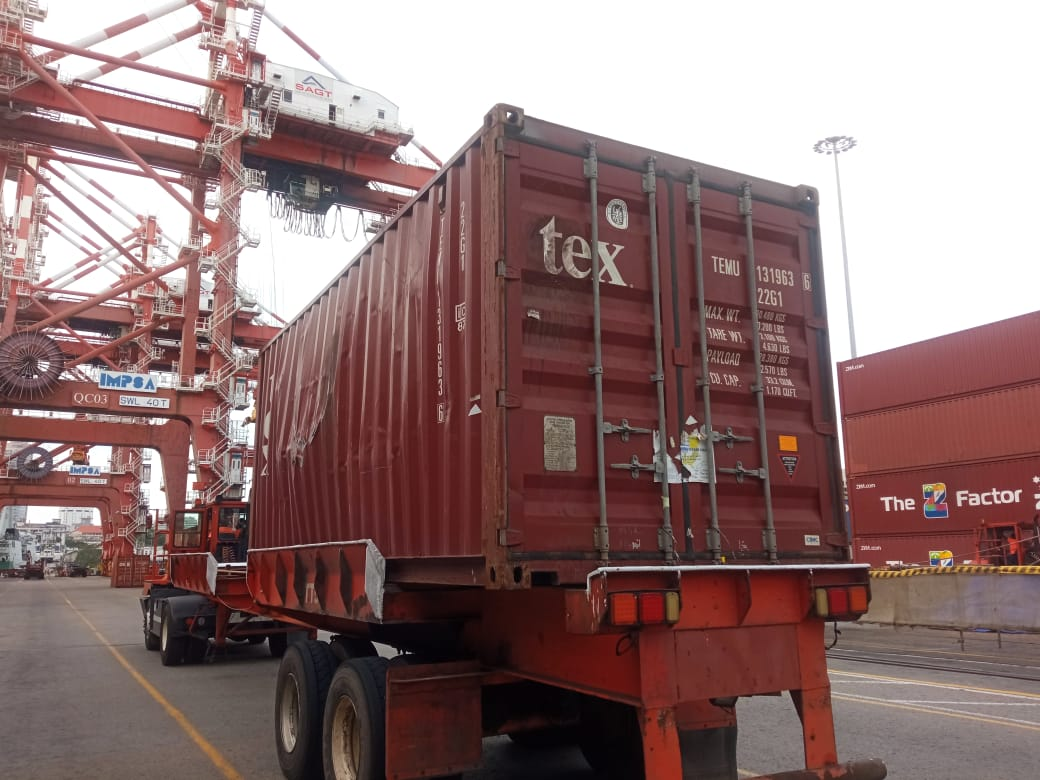bulged: (234, 308, 392, 507)
